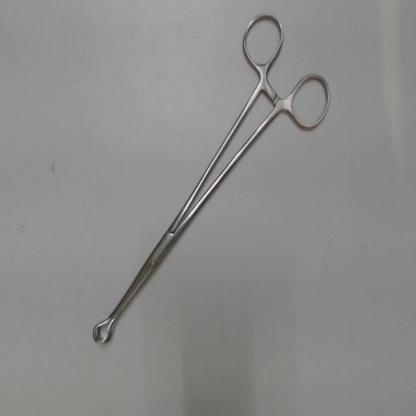8 Babcock Tissue Forceps: (89, 3, 333, 354)
